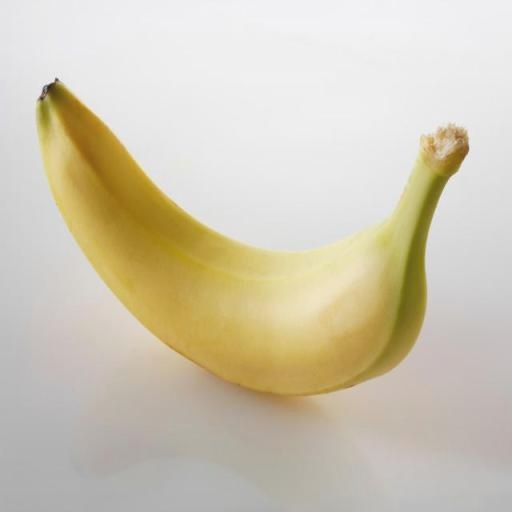fruit: (37, 81, 468, 394)
